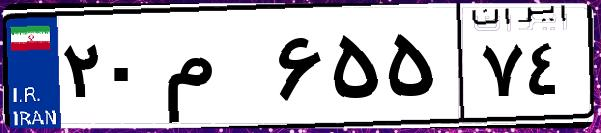0: (110, 28, 158, 98)
2: (57, 26, 110, 100)
4: (525, 38, 570, 115)
5: (385, 28, 445, 110), (330, 28, 385, 110)
6: (270, 28, 330, 110)
7: (475, 38, 525, 113)
م: (158, 20, 270, 120)
